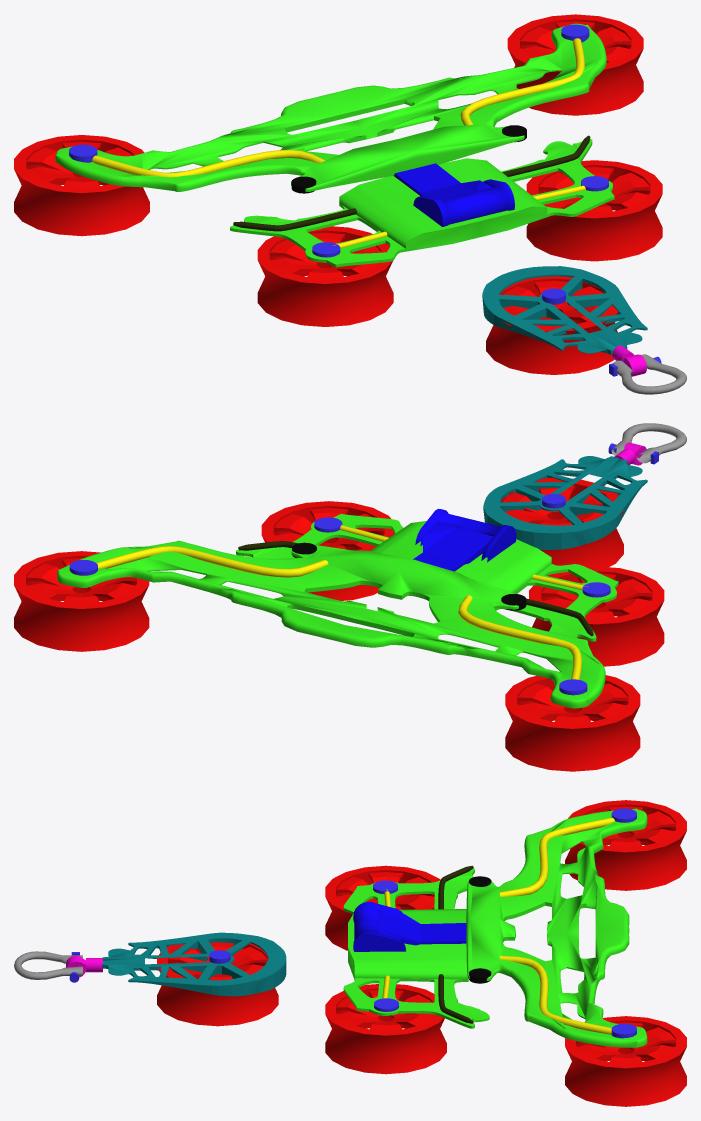
The model's file is Hay Pulley.FBX.
3 renders of one model, top to bottom at view 1: azimuth 30°, elevation 25°; view 2: azimuth 150°, elevation 25°; view 3: azimuth 270°, elevation 25°, orthographic. The views are drawn at different scales.
Parts seen in each view (by area): view 1: Line001, Line002, Cylinder010, Cylinder011, Cylinder009, Line004, Cylinder008, Cylinder012, Cylinder001, Line006, Torus001, Line011 (+2 smaller); view 2: Line001, Cylinder009, Cylinder008, Line002, Line004, Cylinder010, Cylinder001, Cylinder011, Cylinder012, Line006, Torus001; view 3: Line001, Line002, Cylinder008, Cylinder011, Line004, Cylinder009, Cylinder012, Cylinder001, Cylinder010, Line006, Torus001, Cylinder014.
Boxes of the visible parts, left/top/right/bottom form: Line001: left=55, top=23, right=606, bottom=191; Line002: left=230, top=139, right=614, bottom=267; Cylinder010: left=257, top=226, right=393, bottom=326; Cylinder011: left=526, top=160, right=662, bottom=261; Cylinder009: left=14, top=135, right=149, bottom=236; Line004: left=482, top=266, right=647, bottom=354; Cylinder008: left=507, top=14, right=643, bottom=115; Cylinder012: left=486, top=276, right=618, bottom=374; Cylinder001: left=393, top=163, right=514, bottom=226; Line006: left=92, top=38, right=584, bottom=177; Torus001: left=612, top=354, right=686, bottom=394; Line011: left=233, top=208, right=356, bottom=231; Line001: left=57, top=540, right=605, bottom=708; Cylinder009: left=505, top=675, right=640, bottom=771; Cylinder008: left=14, top=551, right=149, bottom=651; Line002: left=236, top=513, right=618, bottom=641; Line004: left=483, top=456, right=647, bottom=549; Cylinder010: left=529, top=566, right=664, bottom=666; Cylinder001: left=413, top=508, right=516, bottom=571; Cylinder011: left=261, top=501, right=394, bottom=600; Cylinder012: left=501, top=477, right=623, bottom=567; Line006: left=96, top=546, right=581, bottom=679; Torus001: left=611, top=423, right=686, bottom=463; Line001: left=466, top=808, right=647, bottom=1047; Line002: left=343, top=868, right=489, bottom=1028; Cylinder008: left=565, top=1016, right=686, bottom=1106; Cylinder011: left=325, top=984, right=446, bottom=1074; Line004: left=102, top=932, right=286, bottom=996; Cylinder009: left=565, top=800, right=686, bottom=890; Cylinder012: left=157, top=942, right=278, bottom=1026; Cylinder001: left=353, top=902, right=466, bottom=951; Cylinder010: left=325, top=865, right=440, bottom=950; Line006: left=499, top=817, right=614, bottom=1034; Torus001: left=14, top=951, right=82, bottom=979; Cylinder014: left=66, top=955, right=102, bottom=977.
Size of the model in its own units: 79.63 by 84.42 by 11.58.
